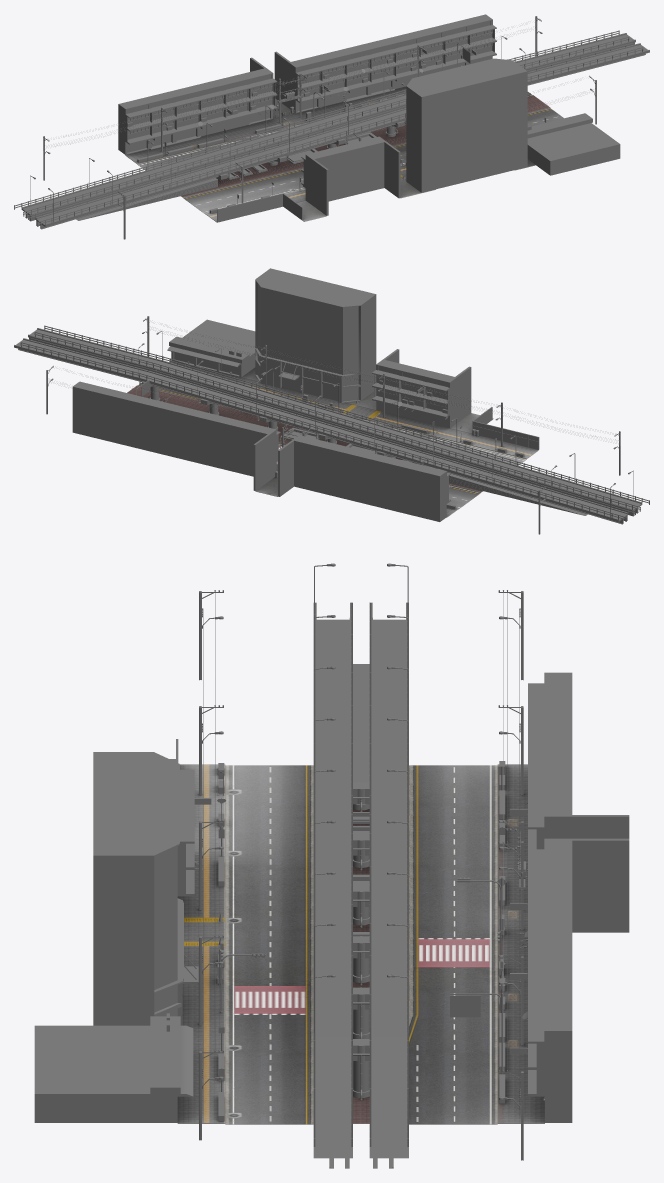
The model's file is city.fbx.
3 renders of one model, top to bottom at view 1: azimuth 30°, elevation 25°; view 2: azimuth 150°, elevation 25°; view 3: azimuth 270°, elevation 25°, orthographic. The views are drawn at different scales.
Parts seen in each view (by area): view 1: pCube539, pCube683, pCube526, pCube664, pCube665, pCube134, pCube668, pCube666, pCube663, pCube671, pCube670, pCube328 (+22 smaller); view 2: pCube539, pCube683, pCube664, pCube665, pCube670, pCube671, pCube667, pCube134, pCube668, pCube669, pCube666, pCube663 (+23 smaller); view 3: pCube683, pCube539, pCube526, pCube574, pCube670, pCube671, pCube572, pCube664, pCube665, pCube669, pCube668, pCube480 (+22 smaller).
Boxes of the visible parts, x1,y1,x2,y2 form: pCube539: (406, 58, 527, 192); pCube683: (125, 86, 563, 222); pCube526: (527, 123, 620, 175); pCube664: (14, 168, 156, 221); pCube665: (28, 178, 170, 229); pCube134: (146, 143, 288, 194); pCube668: (250, 98, 392, 148); pCube666: (264, 109, 406, 159); pCube663: (132, 133, 273, 181); pCube671: (525, 40, 649, 85); pCube670: (507, 30, 635, 71); pCube328: (118, 98, 154, 154); pCube539: (255, 268, 376, 402); pCube683: (127, 360, 538, 517); pCube664: (493, 473, 635, 524); pCube665: (507, 463, 649, 516); pCube670: (14, 336, 155, 381); pCube671: (28, 325, 169, 371); pCube667: (153, 358, 296, 406); pCube134: (389, 428, 531, 478); pCube668: (257, 403, 399, 454); pCube669: (139, 368, 281, 419); pCube666: (272, 393, 413, 443); pCube663: (375, 438, 517, 488); pCube683: (177, 764, 544, 1124); pCube539: (93, 752, 198, 1025); pCube526: (34, 1025, 150, 1122); pCube574: (572, 838, 629, 932); pCube670: (369, 1020, 408, 1168); pCube671: (313, 1020, 352, 1168); pCube572: (528, 1007, 572, 1122); pCube664: (369, 602, 408, 728); pCube665: (313, 602, 352, 728); pCube669: (369, 911, 408, 1036); pCube668: (369, 808, 408, 934); pCube480: (150, 1016, 193, 1122).
Size of the model in its own units: 208 by 31.46 by 87.35.
